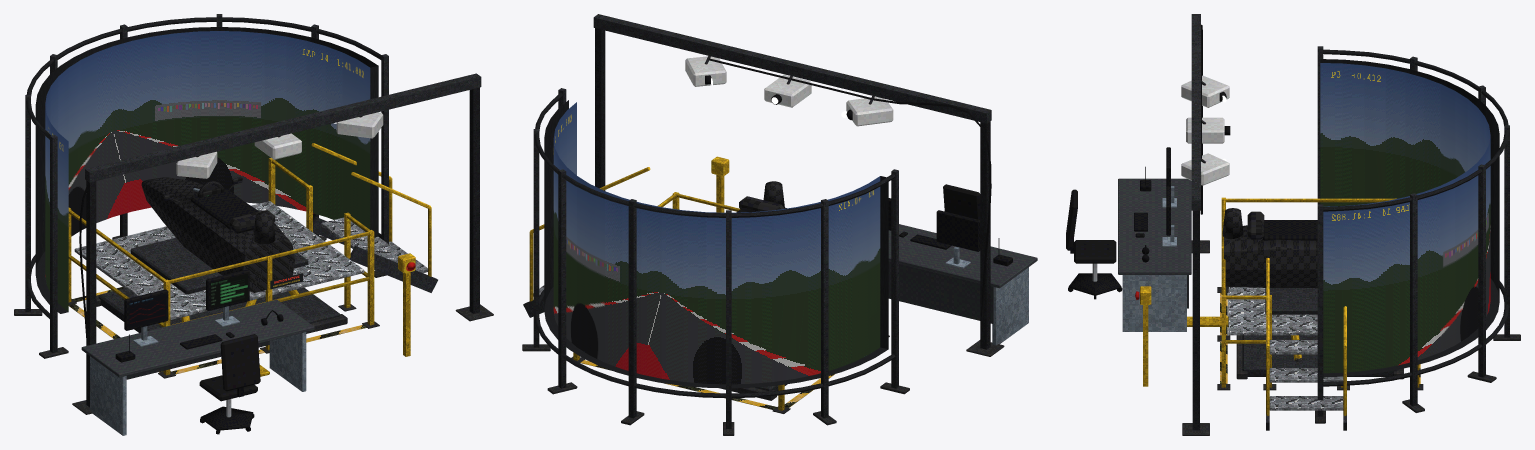
File: station_sim2.glb
The picture shows the model from 3 angles, left to right: view 1: azimuth 30°, elevation 25°; view 2: azimuth 150°, elevation 25°; view 3: azimuth 270°, elevation 25°; orthographic projection. The views are drawn at different scales.
Visible parts, largest first — view 1: BUSY_sim2_Screen, S2_Deck, S2_Tub, S2_DeskTop, S2_GantryBeam, S2_Top, S2_GantryPost1, S2_Base, S2_ScreenRailTop, S2_DeskLeg-2.4, S2_GantryPost-1, S2_ChairBack (+23 smaller); view 2: BUSY_sim2_Screen, S2_GantryBeam, S2_DeskTop, S2_DeskModesty, S2_GantryPost-1, S2_ScreenRailTop, S2_ScreenRailBot, S2_DeskLeg-2.4, S2_ScreenPost12, S2_ScreenPost8, S2_GantryPost1, S2_ScreenPost20 (+10 smaller); view 3: BUSY_sim2_Screen, S2_DeskTop, S2_Tub, S2_DeskLeg-0.2, S2_Deck, S2_ScreenRailTop, S2_GantryBeam, S2_Base, S2_GantryPost1, S2_ScreenPost4, S2_ScreenPost8, S2_ScreenPost0 (+19 smaller).
Part boxes in pixels (<box>): BUSY_sim2_Screen: <box>35,27,378,313</box>; S2_Deck: <box>74,201,364,320</box>; S2_Tub: <box>141,177,294,292</box>; S2_DeskTop: <box>81,299,314,377</box>; S2_GantryBeam: <box>85,73,481,182</box>; S2_Top: <box>130,238,308,294</box>; S2_GantryPost1: <box>469,87,479,313</box>; S2_Base: <box>98,287,340,332</box>; S2_ScreenRailTop: <box>26,17,381,139</box>; S2_DeskLeg-2.4: <box>90,356,126,435</box>; S2_GantryPost-1: <box>86,180,96,407</box>; S2_ChairBack: <box>220,334,260,391</box>; BUSY_sim2_Screen: <box>544,100,888,388</box>; S2_GantryBeam: <box>593,14,991,123</box>; S2_DeskTop: <box>888,224,1037,288</box>; S2_DeskModesty: <box>888,261,993,323</box>; S2_GantryPost-1: <box>980,121,990,349</box>; S2_ScreenRailTop: <box>534,93,895,217</box>; S2_ScreenRailBot: <box>534,289,895,398</box>; S2_DeskLeg-2.4: <box>992,267,1028,345</box>; S2_ScreenPost12: <box>628,199,636,418</box>; S2_ScreenPost8: <box>558,169,566,388</box>; S2_GantryPost1: <box>595,28,605,190</box>; S2_ScreenPost20: <box>821,199,828,418</box>; BUSY_sim2_Screen: <box>1320,59,1499,377</box>; S2_DeskTop: <box>1118,178,1191,274</box>; S2_Tub: <box>1224,225,1317,287</box>; S2_DeskLeg-0.2: <box>1122,275,1186,331</box>; S2_Deck: <box>1228,287,1317,335</box>; S2_ScreenRailTop: <box>1323,49,1508,211</box>; S2_GantryBeam: <box>1191,14,1200,210</box>; S2_Base: <box>1242,335,1398,376</box>; S2_GantryPost1: <box>1192,210,1199,430</box>; S2_ScreenPost4: <box>1410,193,1417,406</box>; S2_ScreenPost8: <box>1478,164,1485,377</box>; S2_ScreenPost0: <box>1317,204,1323,416</box>.
Size of the model in its own units: 5 by 2.83 by 4.95.
Materials: 21 (20 with a texture image).
